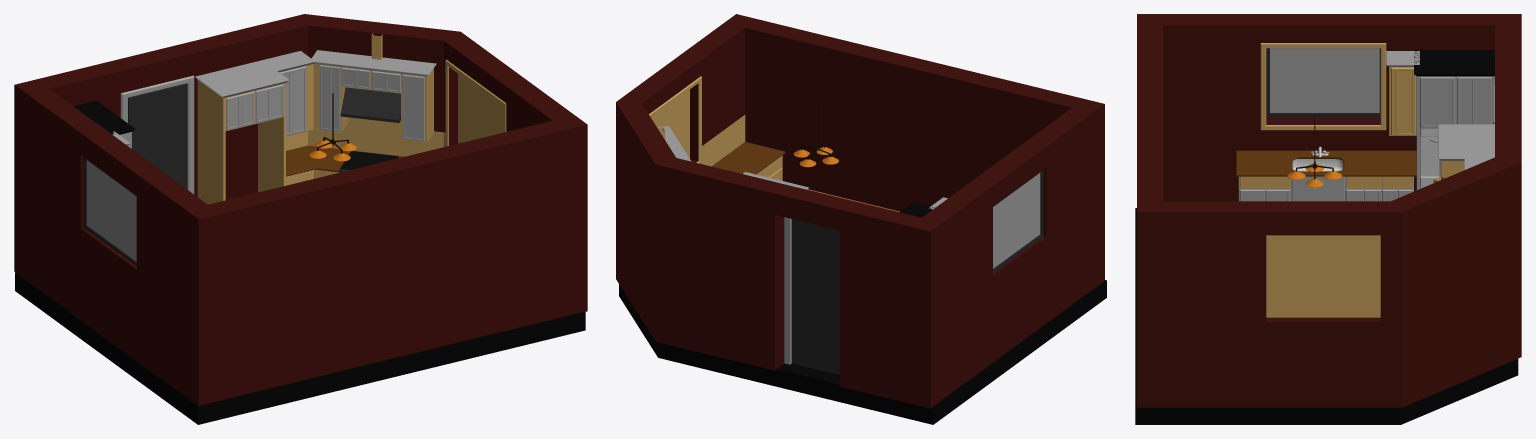
The model's file is FloorPlan30.fbx.
3 views of the same model, side by side, from view 1: azimuth 30°, elevation 25°; view 2: azimuth 150°, elevation 25°; view 3: azimuth 270°, elevation 25° (orthographic). The views are drawn at different scales.
Parts seen in each view (by area): view 1: Cube.015, Cube.017, Cube.048, Cube.067, Room.031, Cube.074, Cube.032, Cube.042, Cube.029, Cube.041, Room.001, Cube.049 (+7 smaller); view 2: Cube.015, Cube.048, Cube.067, Room.001, Cube.074, Room.031, Cube.017, Cube.046, Cylinder.025; view 3: Cube.015, Cube.074, Cube.048, Cube.067, Cube.059, Cube.049, Cube.017, Cube.047, Cube.058, Cube.056, Cube.057, Cube.066 (+7 smaller).
Part boxes in pixels (bbox=[...]): Cube.015: bbox=[14, 14, 587, 405]; Cube.017: bbox=[195, 33, 436, 204]; Cube.048: bbox=[15, 272, 585, 424]; Cube.067: bbox=[87, 160, 136, 260]; Room.031: bbox=[286, 117, 445, 156]; Cube.074: bbox=[458, 74, 502, 143]; Cube.032: bbox=[340, 87, 400, 122]; Cube.042: bbox=[402, 74, 424, 141]; Cube.029: bbox=[280, 66, 306, 135]; Cube.041: bbox=[320, 65, 340, 132]; Room.001: bbox=[286, 145, 404, 176]; Cube.049: bbox=[73, 100, 134, 148]; Cube.015: bbox=[616, 14, 1104, 408]; Cube.048: bbox=[619, 280, 1106, 424]; Cube.067: bbox=[993, 173, 1040, 268]; Room.001: bbox=[711, 142, 785, 174]; Cube.074: bbox=[651, 89, 689, 158]; Room.031: bbox=[702, 115, 745, 166]; Cube.017: bbox=[657, 126, 808, 189]; Cube.046: bbox=[649, 76, 701, 163]; Cylinder.025: bbox=[793, 102, 838, 167]; Cube.015: bbox=[1137, 14, 1521, 407]; Cube.074: bbox=[1266, 235, 1380, 317]; Cube.048: bbox=[1135, 208, 1518, 424]; Cube.067: bbox=[1270, 48, 1379, 112]; Cube.059: bbox=[1236, 150, 1416, 176]; Cube.049: bbox=[1414, 50, 1494, 189]; Cube.017: bbox=[1433, 124, 1494, 182]; Cube.047: bbox=[1260, 43, 1386, 130]; Cube.058: bbox=[1420, 77, 1455, 128]; Cube.056: bbox=[1391, 67, 1415, 135]; Cube.057: bbox=[1457, 77, 1491, 124]; Cube.066: bbox=[1291, 176, 1344, 201].
Size of the model in its own units: 480 by 253 by 394.
